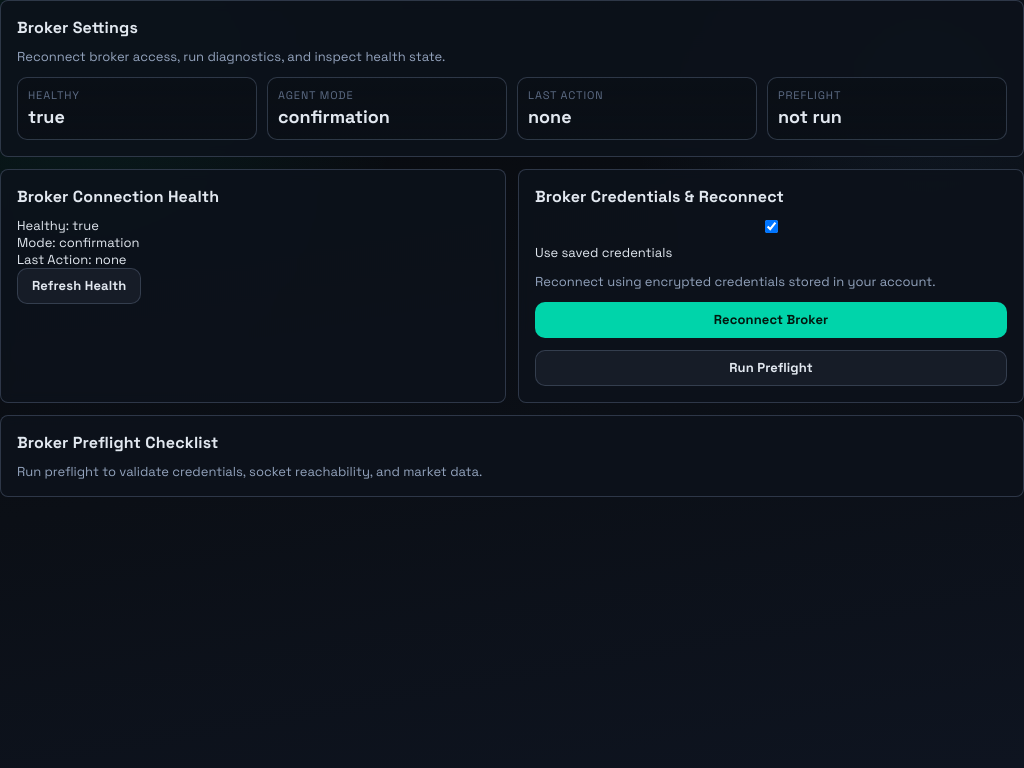
Scenario: BrokerSettingsPage › runs preflight and renders checklist result
This screenshot has width=1024, height=768.
expect the heading "Broker Connection Health" is shown: met, box [17,186,219,206]
Click the button "Run Preflight". click: (771, 368)
box: [535,350,1007,386]
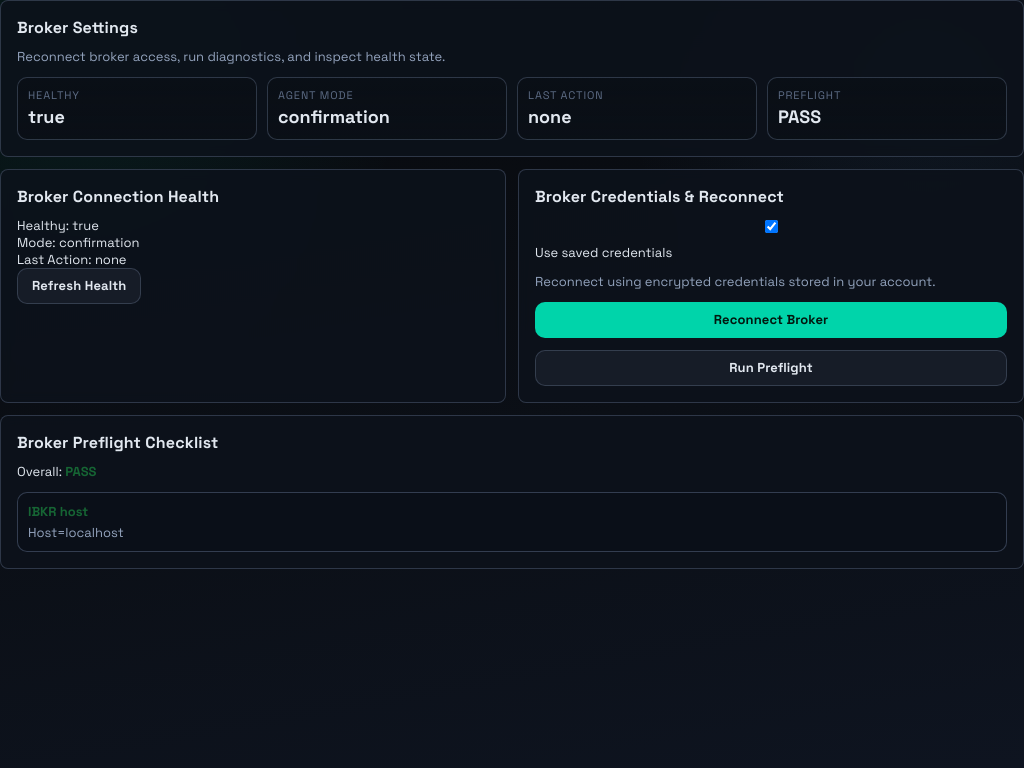
expect the text "Overall:" is shown: met, box [17,462,62,480]
expect the text "PASS" next to "Overall:" is shown: met, box [65,462,96,480]
expect the text "IBKR host" is shown: met, box [28,502,88,520]
